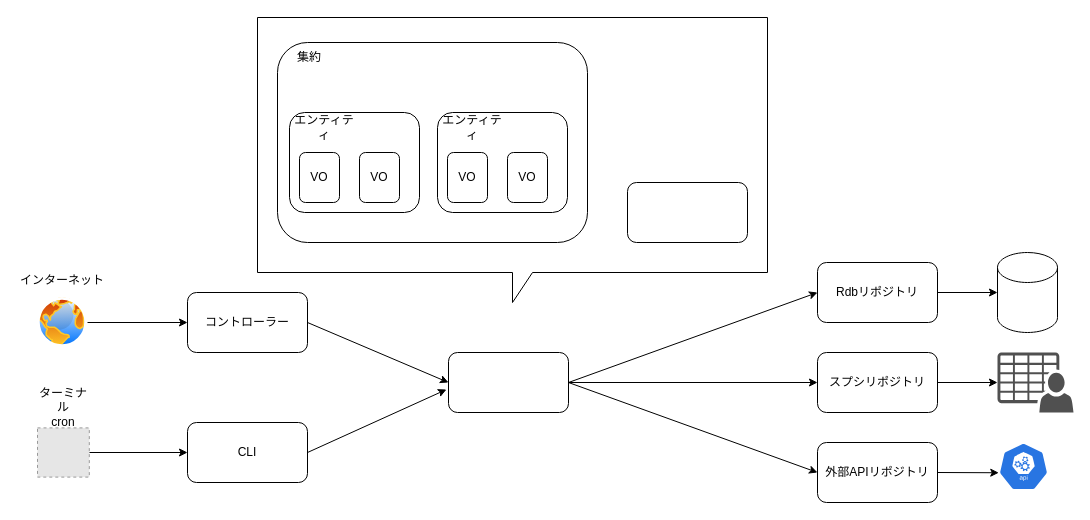
Image size: 1090x520. Some labels were removed from this diagram. Grey dashed boxes stand in for pictures. Each missing label, with the box of its shape:
サービス: (626, 182, 748, 242)
ユースケース: (448, 352, 568, 412)
